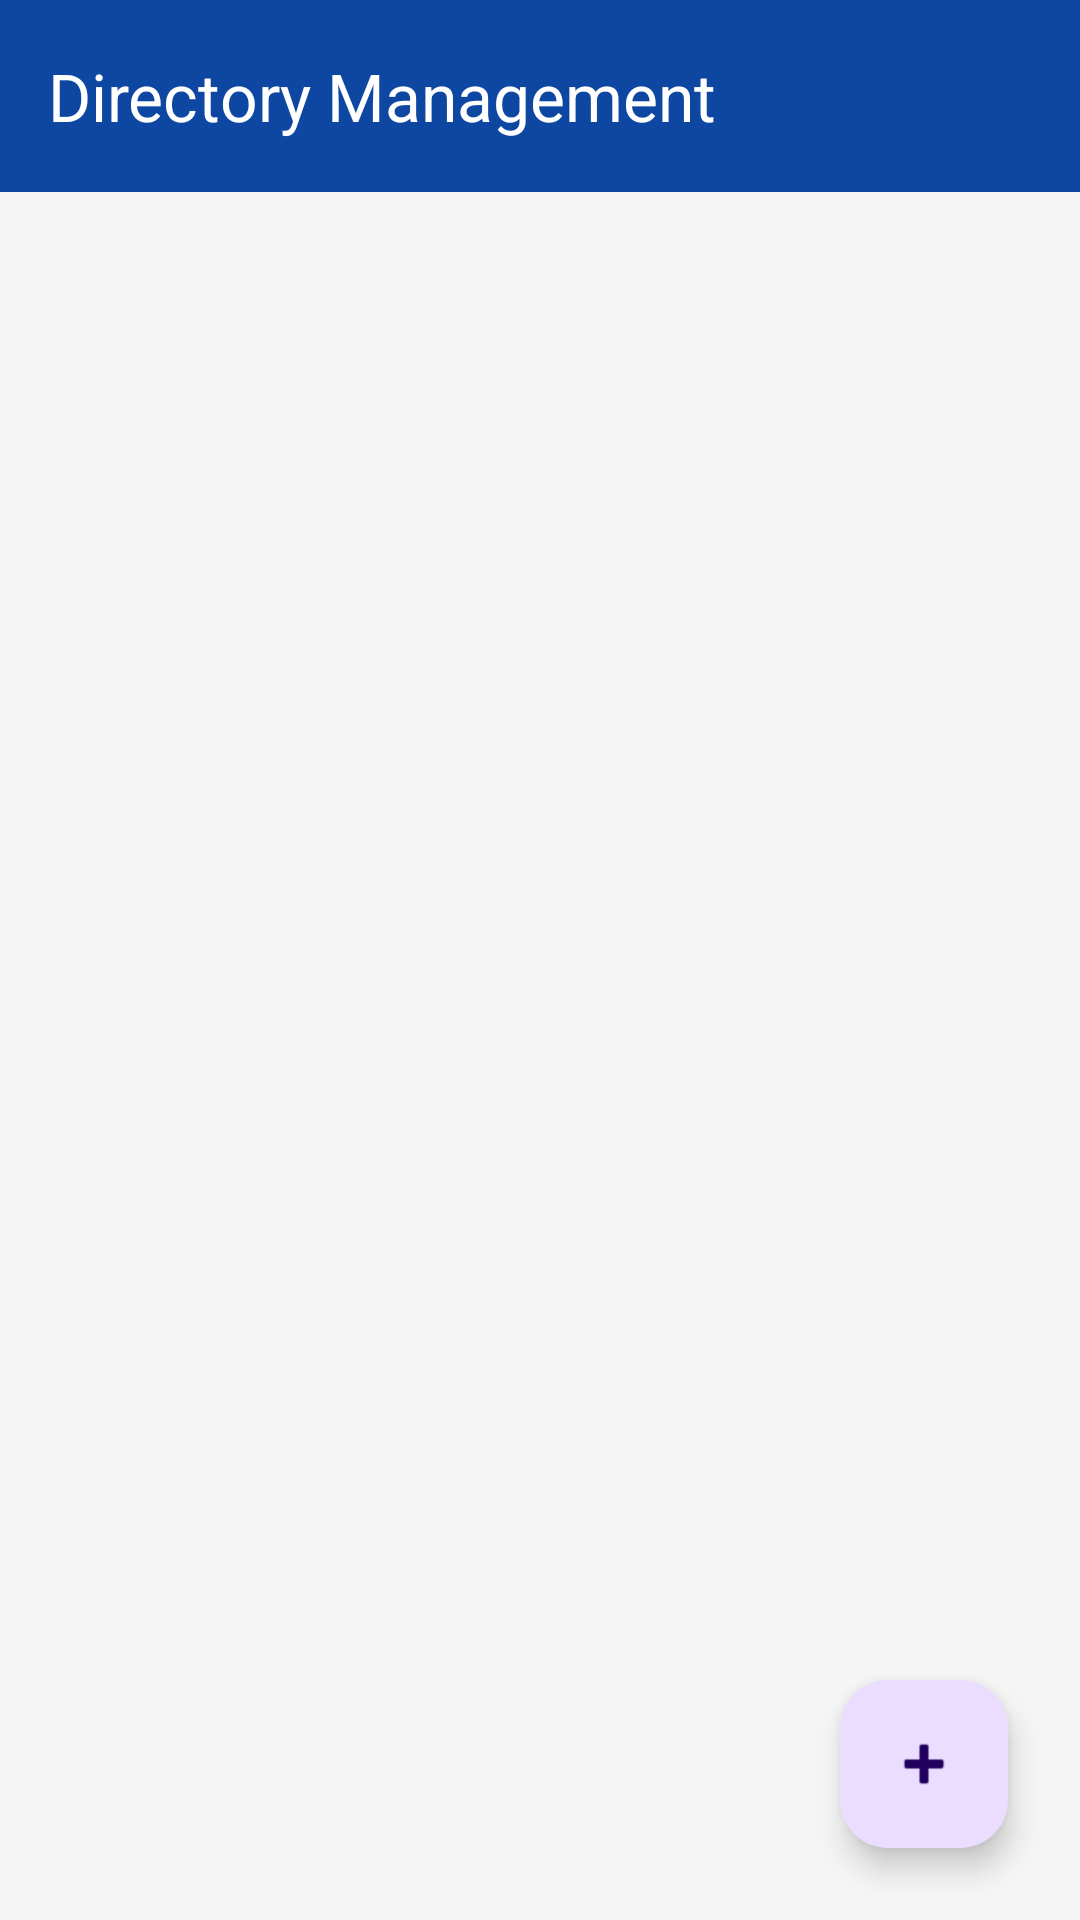

Where icons sit on this 1080px x 1920px app screen, as BBox(x1, y1, x2, y2):
Add Contact: BBox(840, 1680, 1008, 1848)
